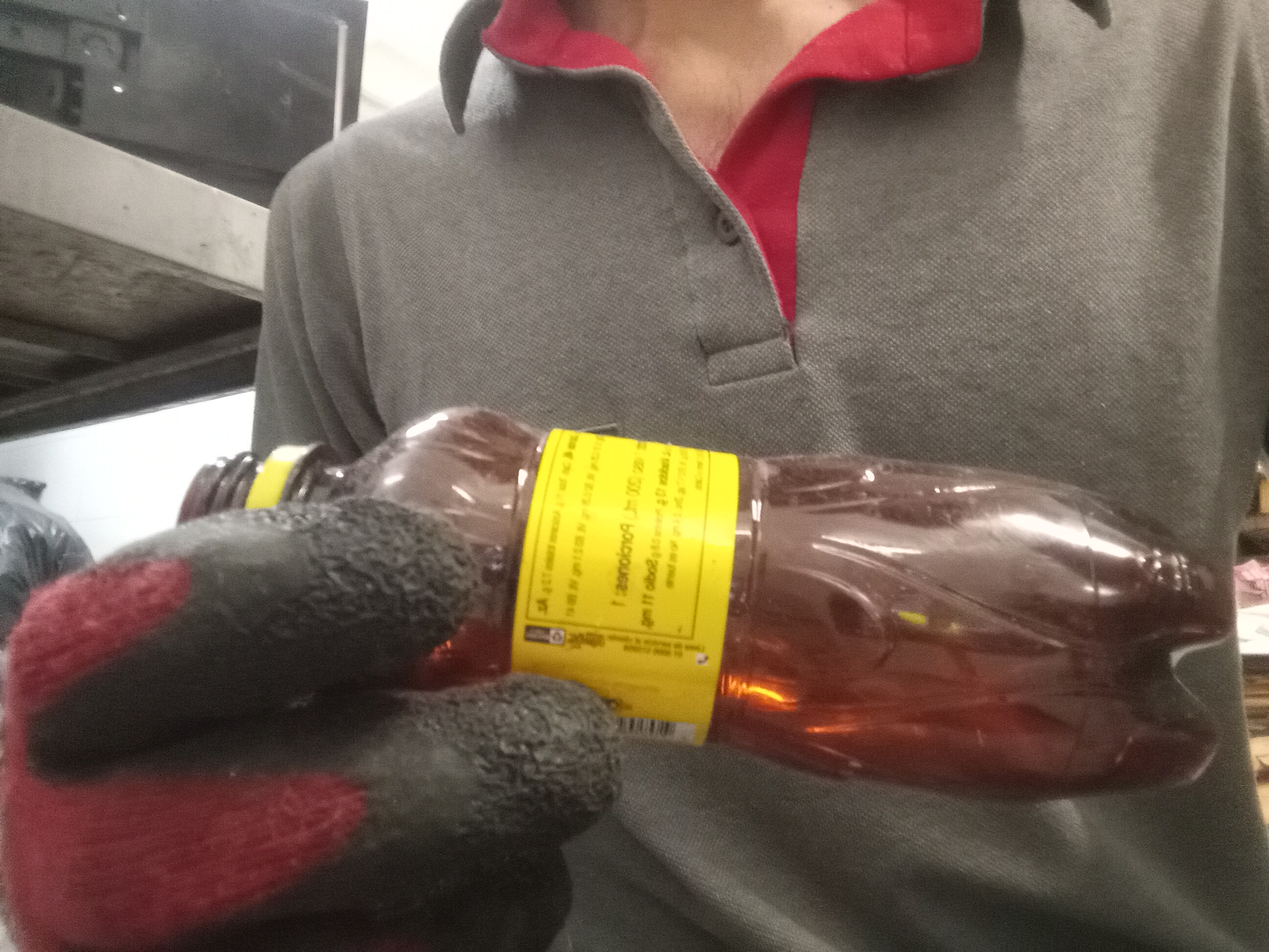Plastico: (182, 402, 1231, 799)
